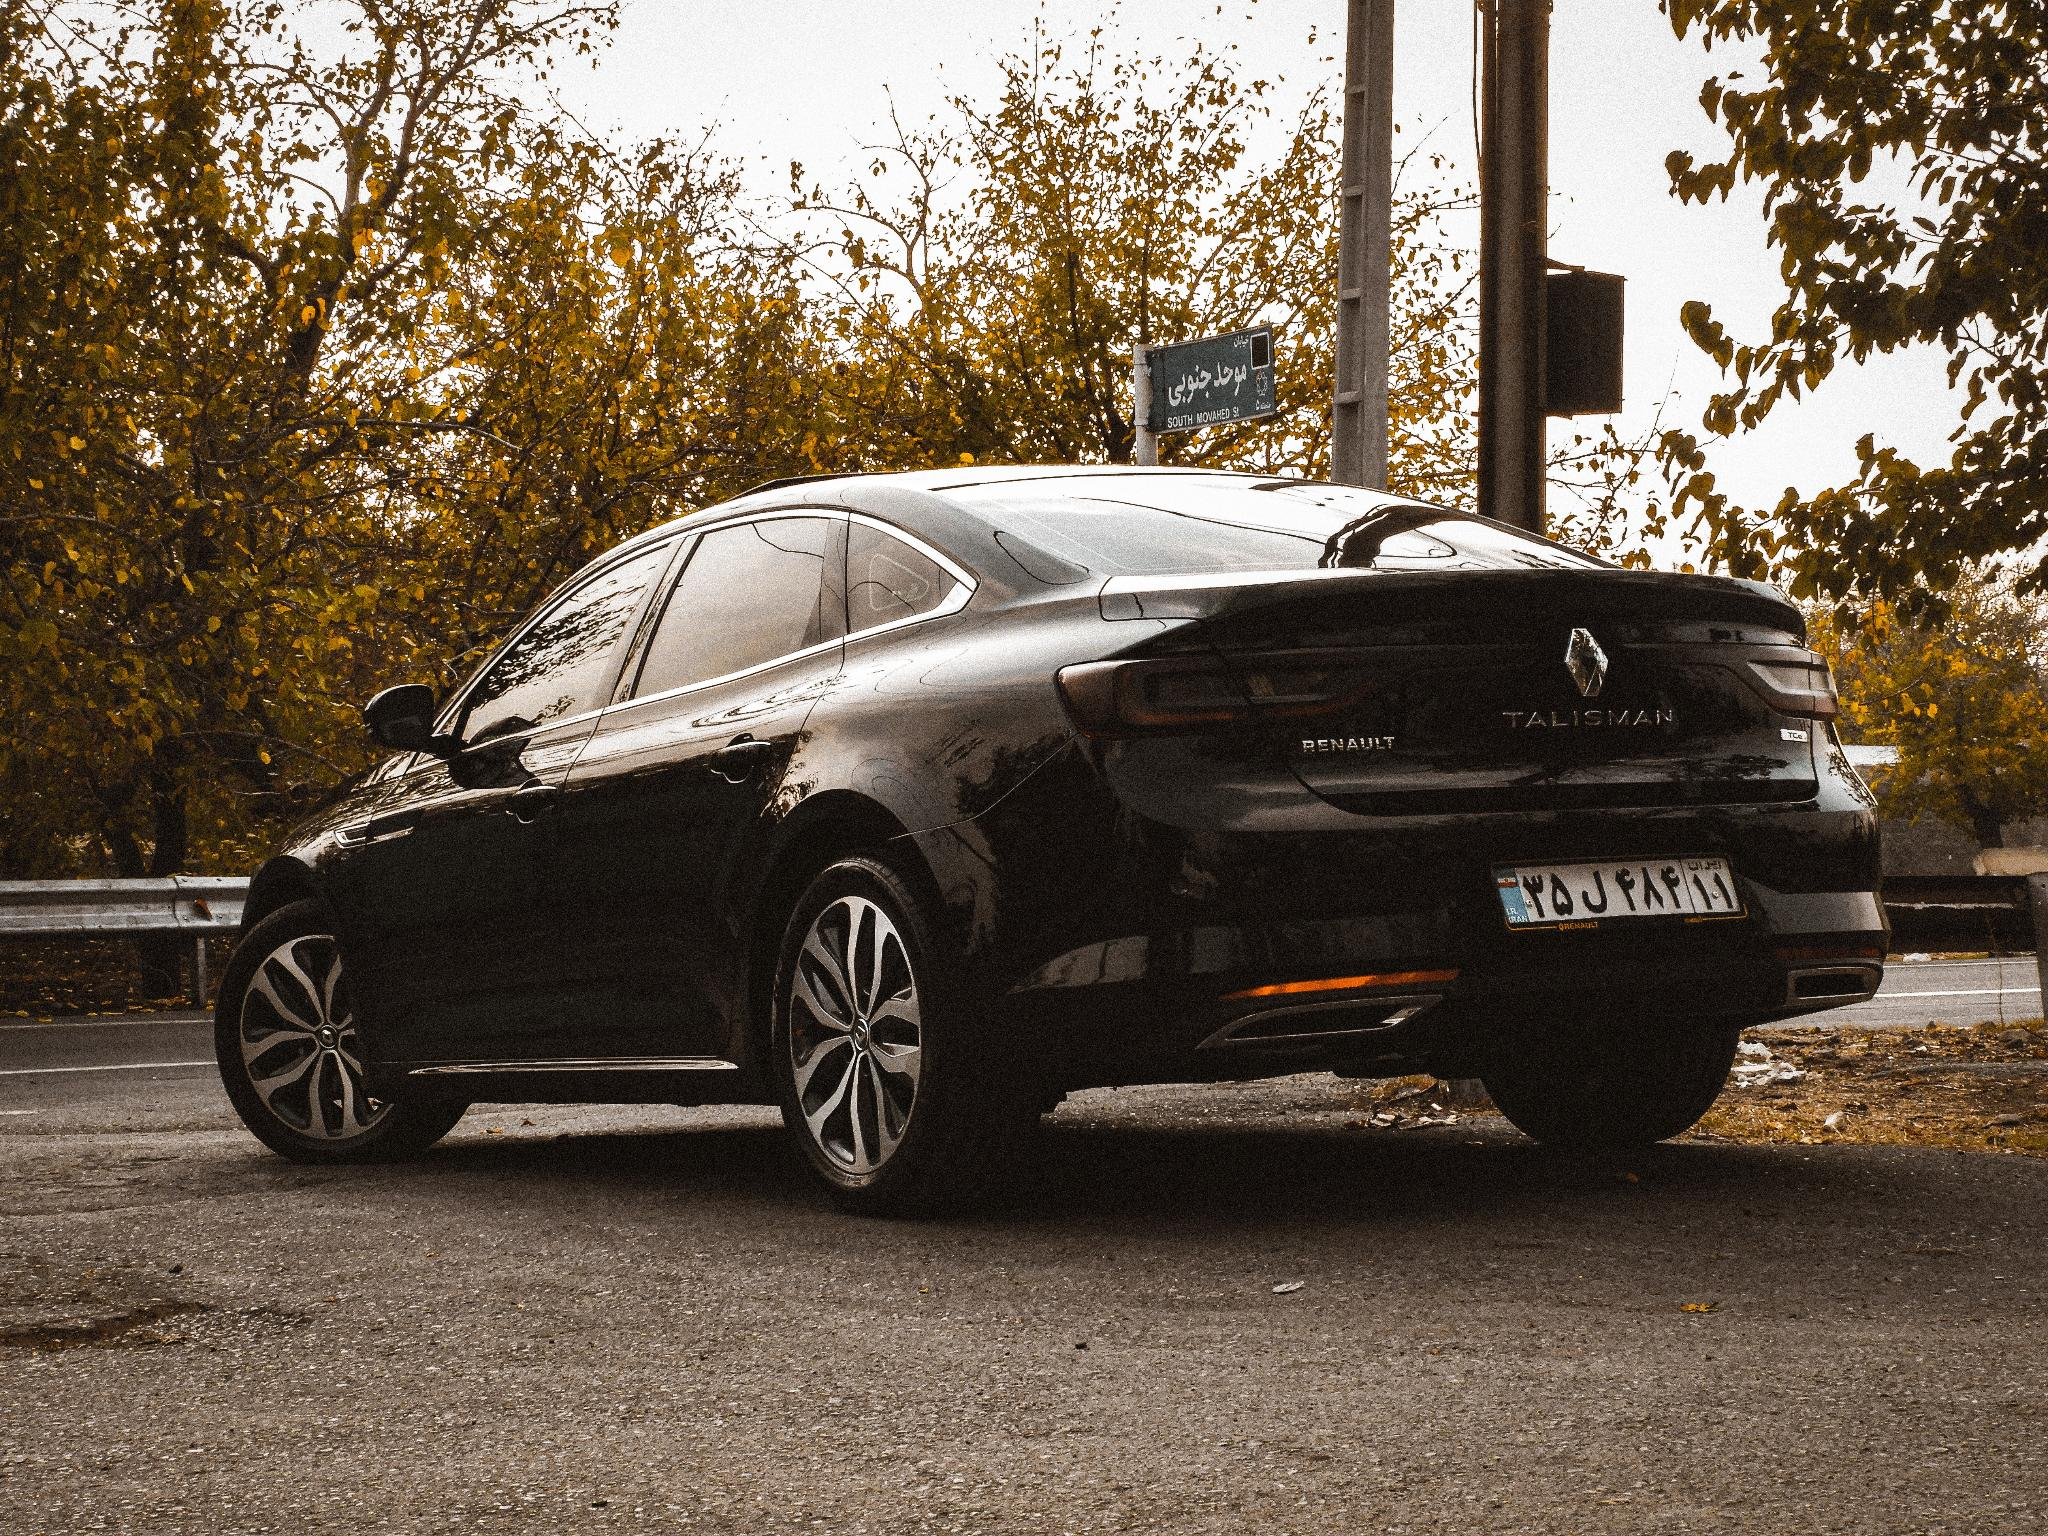Renault: (1535, 610, 1627, 708)
